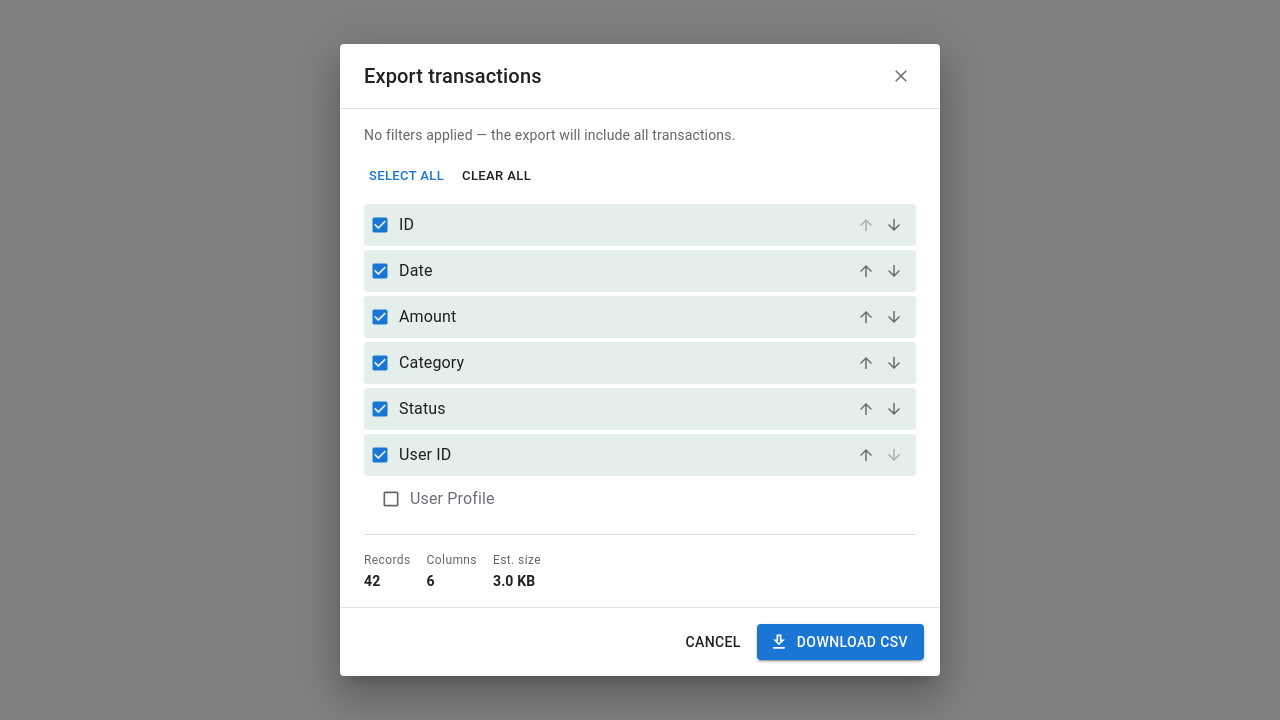
Test: ExportModal › disables the download button when all columns are cleared
Check: the text "42" is shown, box [364,573,380,589]
Step 1. Click the button "Clear all" → (497, 176), box [457,161,536,192]
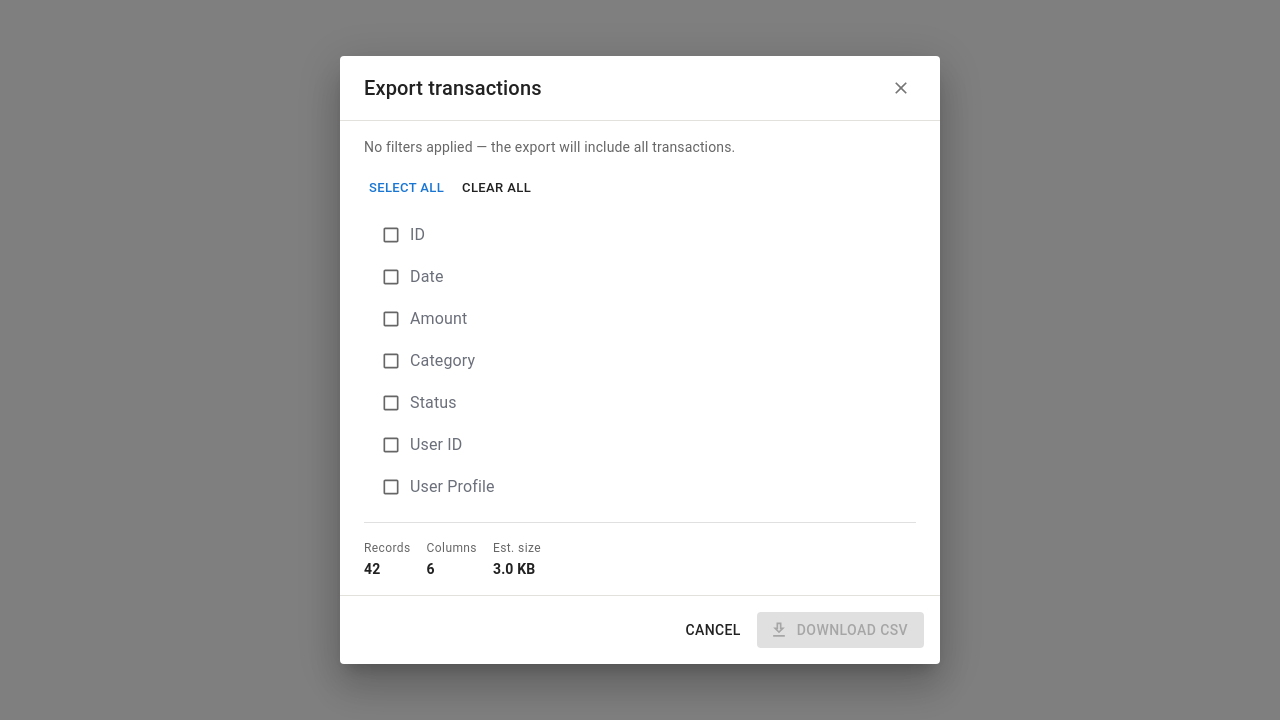
Check: the button "Download CSV" is disabled, box [757,612,924,648]
